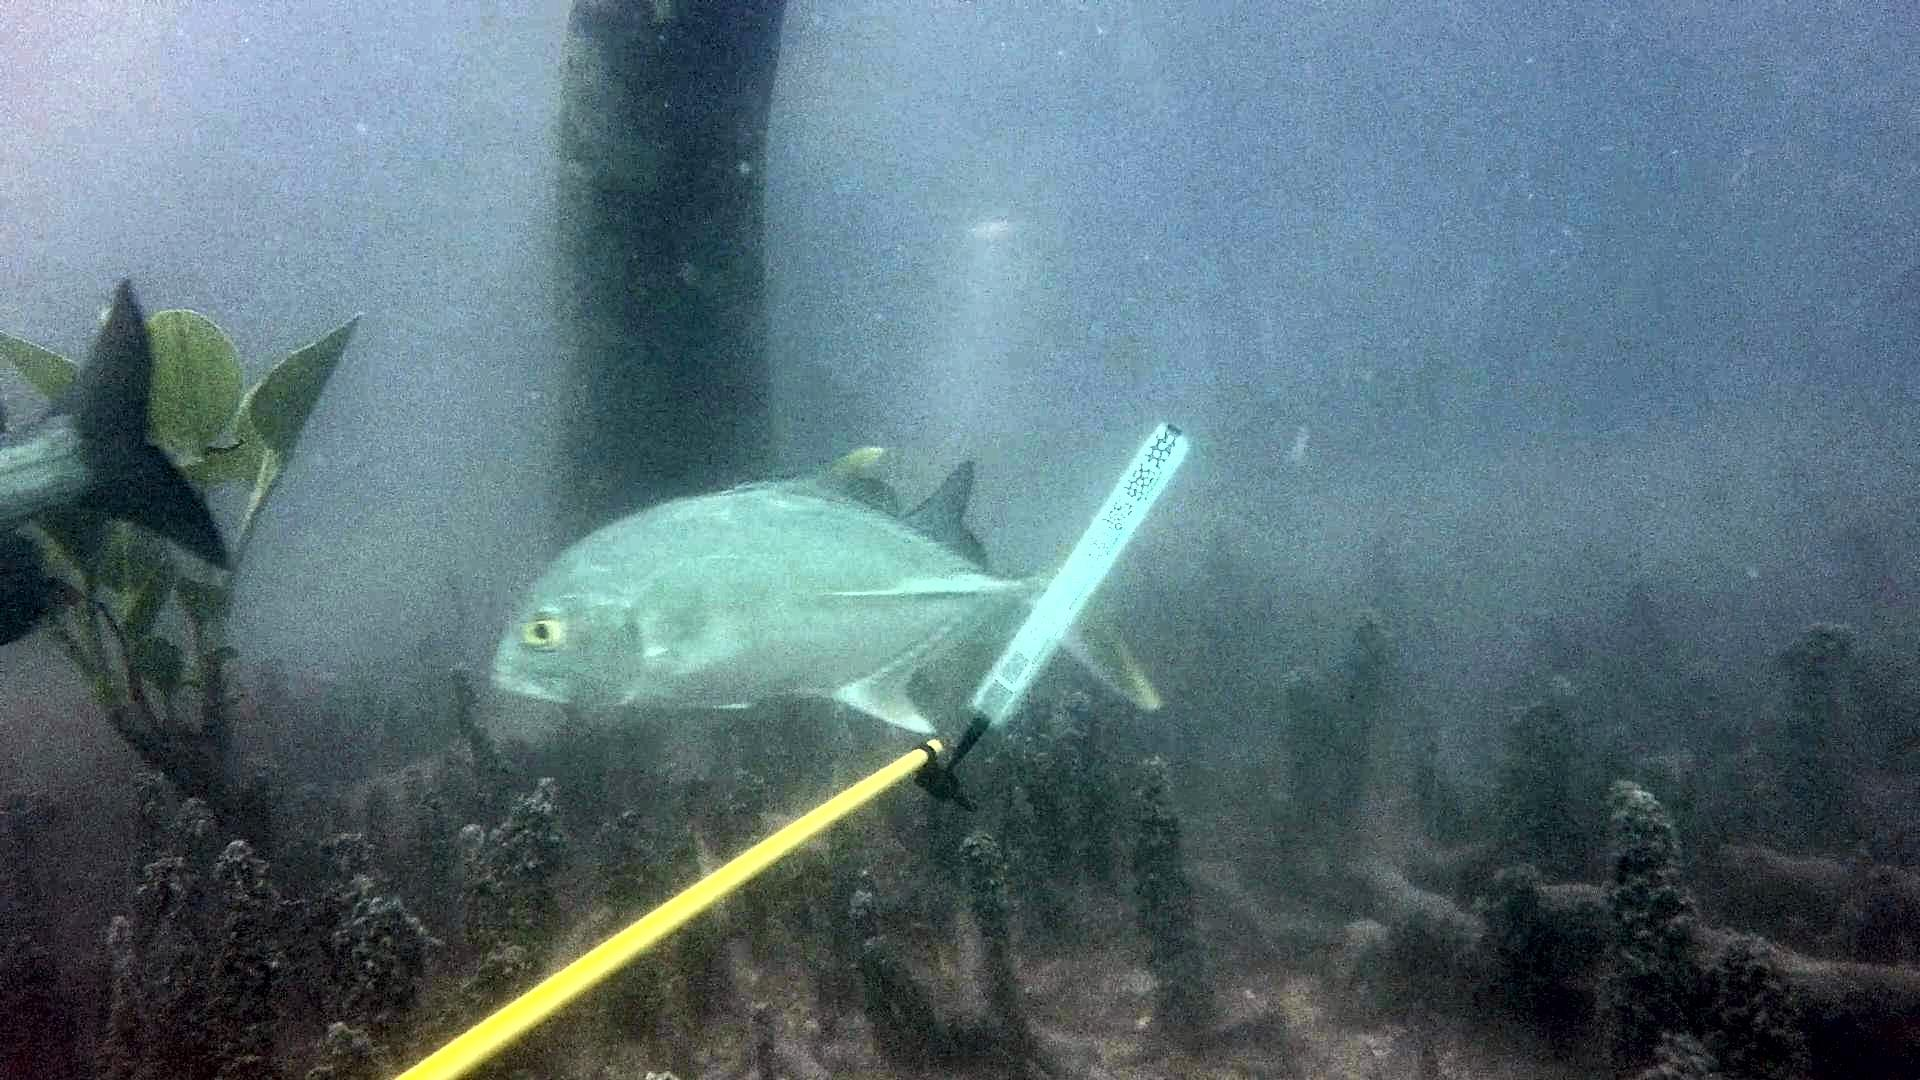acanthopagrus palmaris: (0, 268, 245, 591)
caranx: (481, 429, 1175, 749)
